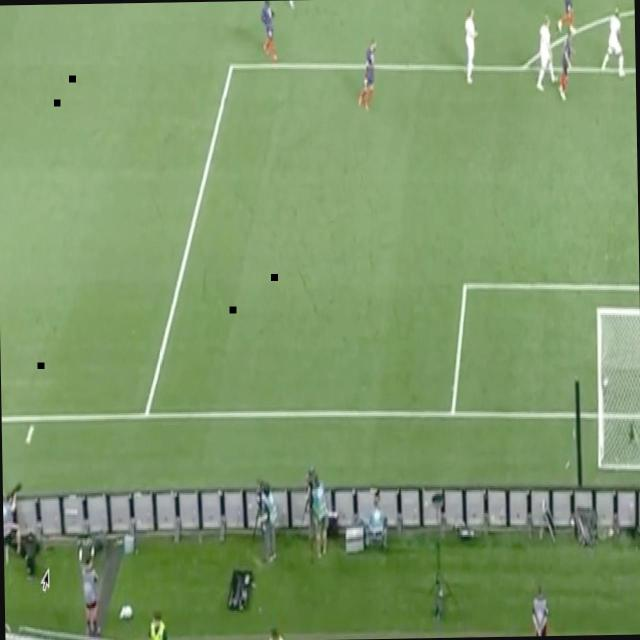player-white: (532, 14, 562, 96), (599, 6, 627, 78), (460, 4, 482, 91), (356, 35, 380, 114), (555, 30, 580, 104), (259, 0, 281, 64), (556, 0, 582, 35), (527, 590, 547, 634), (285, 0, 305, 14)
